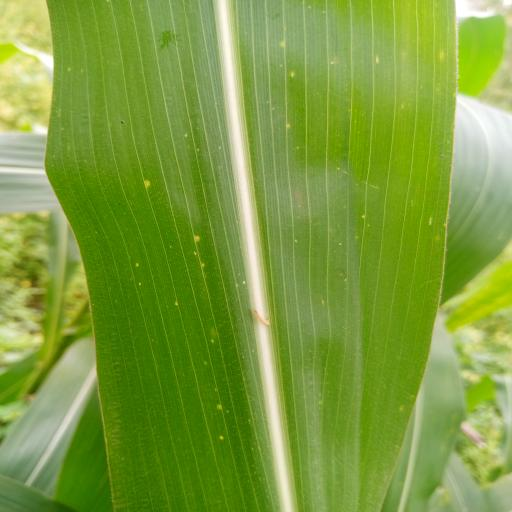Corn_Chlorotic_Leaf_Spot: (42, 0, 461, 512)
